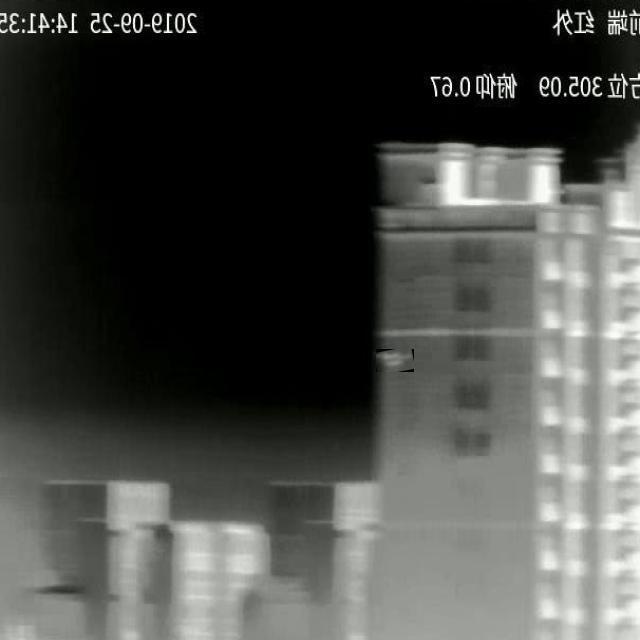drone: (376, 352, 413, 372)
